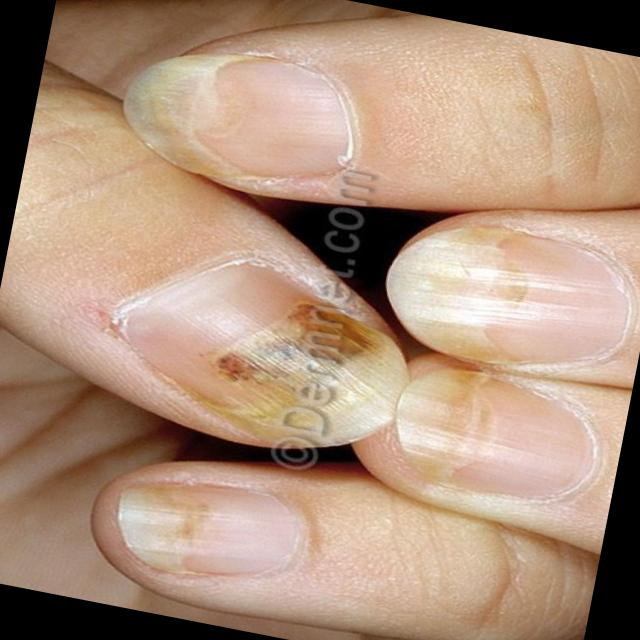Nail: (120, 260, 408, 447), (389, 221, 627, 368), (123, 50, 357, 177), (395, 370, 599, 498), (118, 482, 300, 570)
